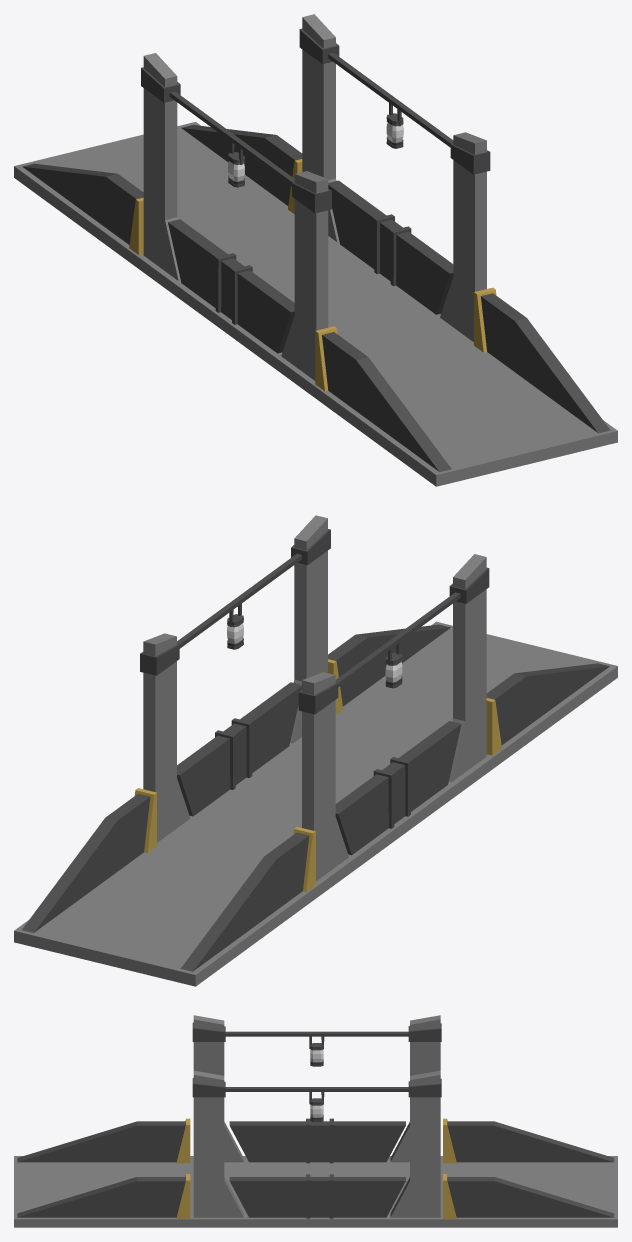
File: Pont.fbx
3 views of the same model, one above another, from view 1: azimuth 30°, elevation 25°; view 2: azimuth 150°, elevation 25°; view 3: azimuth 270°, elevation 25° (orthographic). The views are drawn at different scales.
Parts seen in each view (by area): view 1: Pont; view 2: Pont; view 3: Pont.
Part boxes in pixels (x1,y1,x2,y2): Pont: (14, 14, 617, 486); Pont: (14, 515, 617, 986); Pont: (14, 1015, 617, 1227).
Size of the model in its own units: 53.81 by 59.79 by 217.
